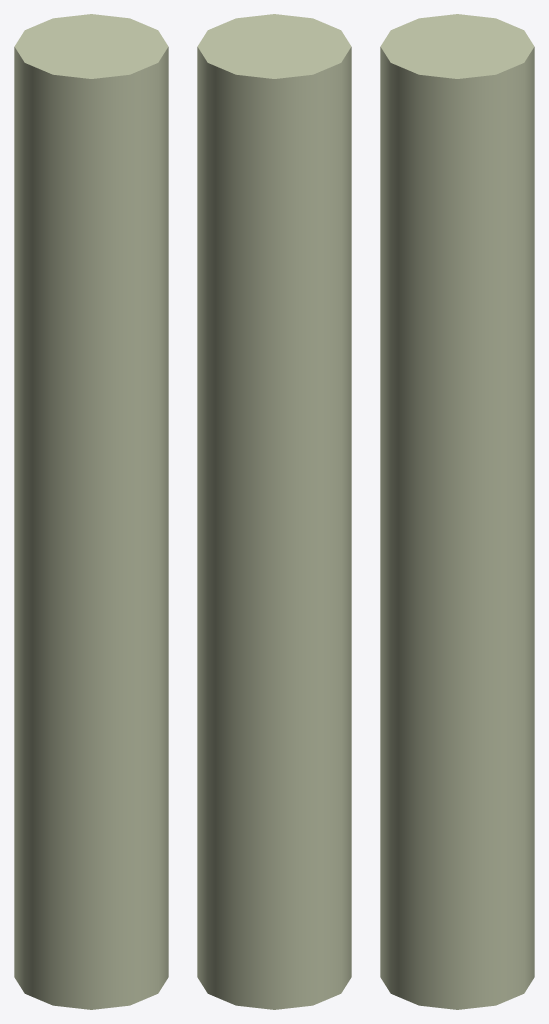
The model's file is Eridani_Antenna_4_Arm.obj.
3 views of the same model, side by side, from view 1: azimuth 30°, elevation 25°; view 2: azimuth 150°, elevation 25°; view 3: azimuth 270°, elevation 25° (orthographic).
Parts seen in each view (by area): view 1: Eridani_Antenna_4_Arm; view 2: Eridani_Antenna_4_Arm; view 3: Eridani_Antenna_4_Arm.
Part boxes in pixels (<box>): Eridani_Antenna_4_Arm: <box>14,14,168,1009</box>; Eridani_Antenna_4_Arm: <box>197,14,351,1009</box>; Eridani_Antenna_4_Arm: <box>380,14,534,1009</box>.
Bounding box in the file's own units: 0.15 × 1 × 0.15.
